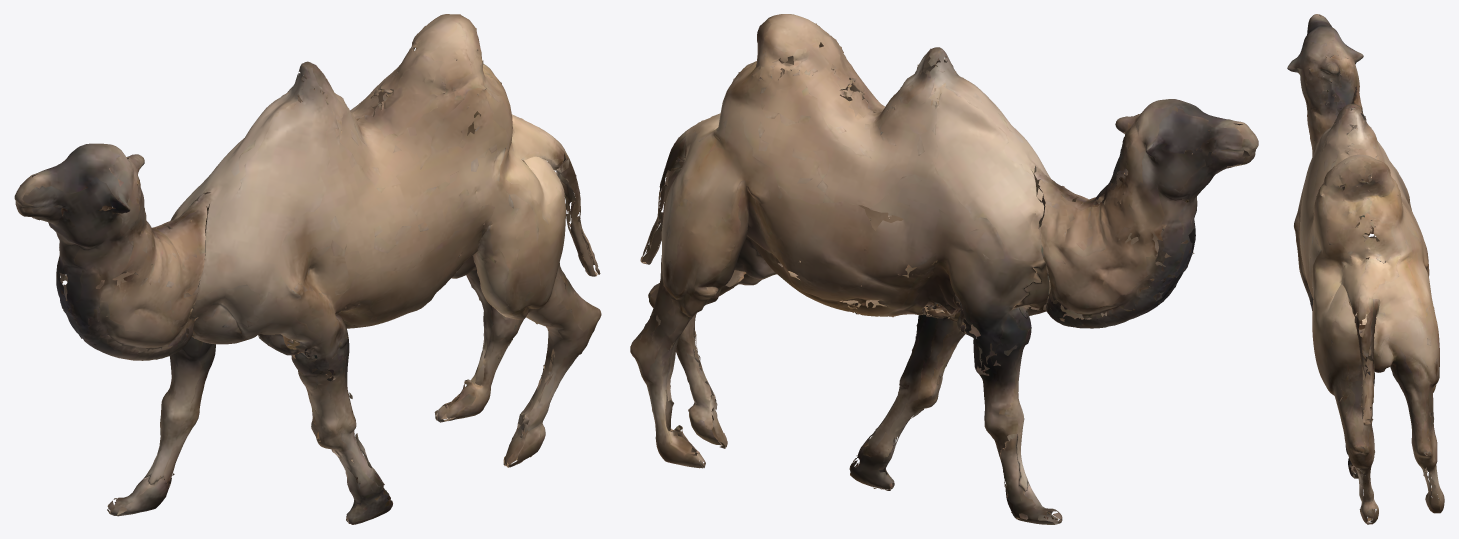
The picture shows the model from 3 angles, left to right: view 1: azimuth 30°, elevation 25°; view 2: azimuth 150°, elevation 25°; view 3: azimuth 270°, elevation 25°; orthographic projection. The views are drawn at different scales.
Visible parts, largest first — view 1: world; view 2: world; view 3: world.
Part boxes in pixels (x1=…): world: x1=14, y1=14, x2=601, y2=524; world: x1=630, y1=14, x2=1258, y2=524; world: x1=1287, y1=14, x2=1444, y2=524.
Bounding box in the file's own units: 0.9433 × 0.6981 × 0.2835.
Materials: 1 (1 with a texture image).
